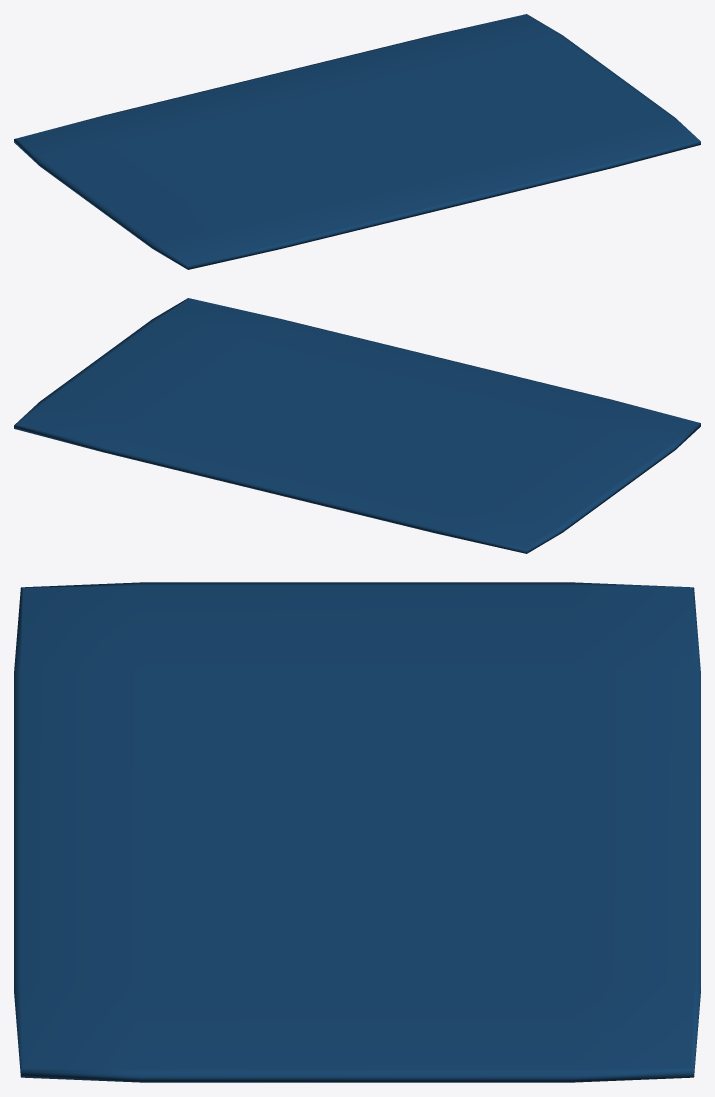
Rendered from PROJECT DREAM - Bedroom - Rug.fbx.
3 renders of one model, top to bottom at view 1: azimuth 30°, elevation 25°; view 2: azimuth 150°, elevation 25°; view 3: azimuth 270°, elevation 25°, orthographic. The views are drawn at different scales.
Visible parts, largest first — view 1: Bedroom - Rug; view 2: Bedroom - Rug; view 3: Bedroom - Rug.
Boxes of the visible parts, x1,y1,x2,y2 form: Bedroom - Rug: [14, 14, 700, 269]; Bedroom - Rug: [14, 298, 700, 553]; Bedroom - Rug: [14, 582, 700, 1082].
Size of the model in its own units: 446 by 3.45 by 262.
